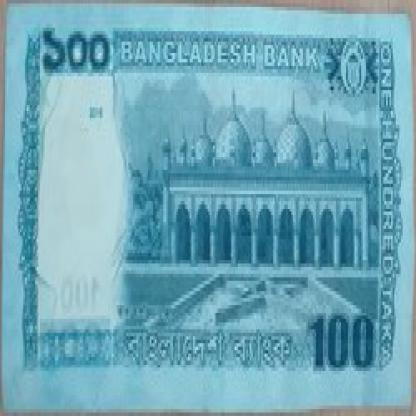one hundred taka: (44, 3, 116, 86), (308, 298, 378, 381)
